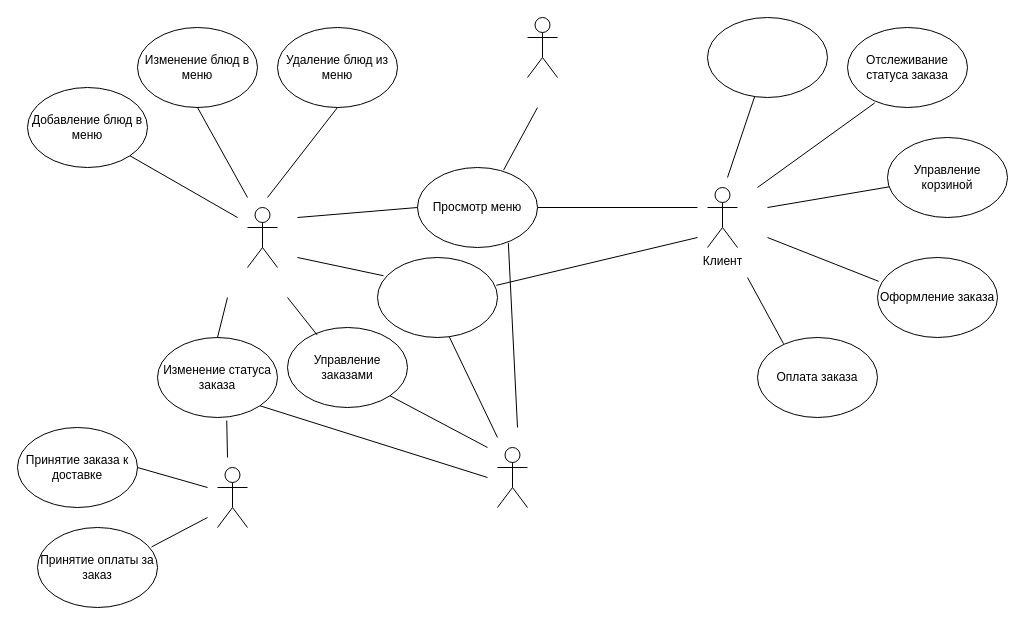
Image size: 1025x625. Some labels were removed from this diagram. The shapes that lost their labels are listed below. From the top down, each one's box as (x1, y1, x2, y2) in pixels, then its label:
(526, 16, 558, 78): Гость
(706, 16, 828, 98): Отмена заказа
(246, 206, 278, 268): Администратор
(376, 256, 498, 338): Просмотр истории заказов
(216, 466, 248, 528): Курьер
(496, 446, 528, 508): Оператор
